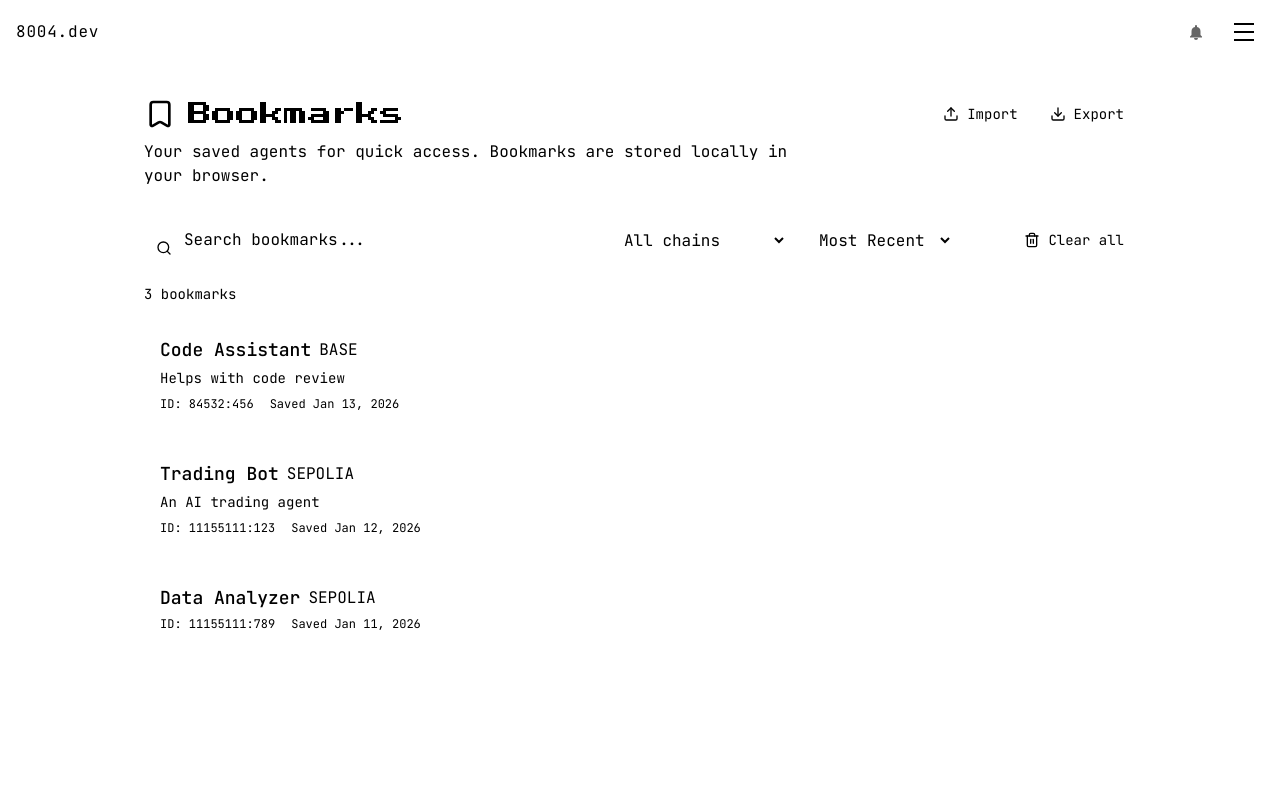
Scenario: BookmarksPage › filters bookmarks by search query
Type "trading" into the field with test id "search-input".
click(368, 240); type("trading")  # box [144,220,592,260]
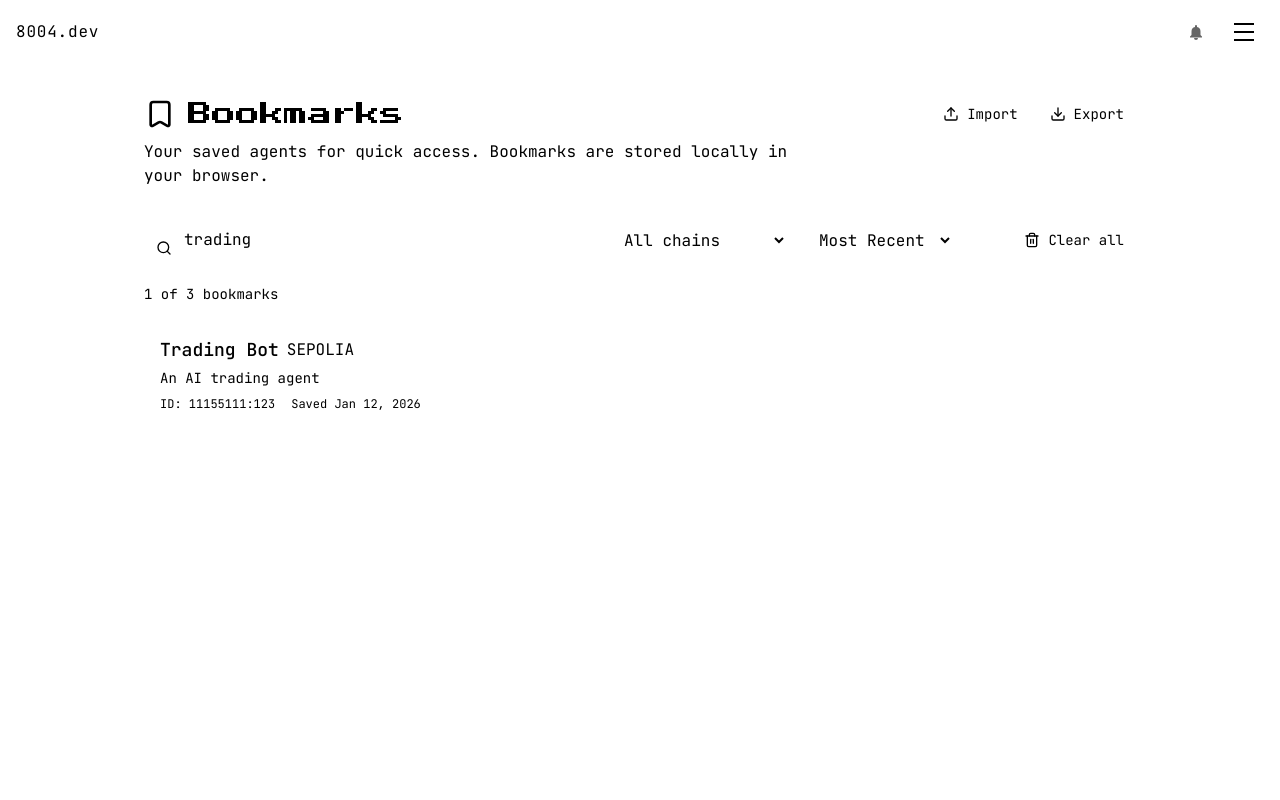
Expected: the heading "Trading Bot" is shown, [160,336,279,364]
Result: the link "Code Assistant" is gone
Result: the link "Data Analyzer" is gone
